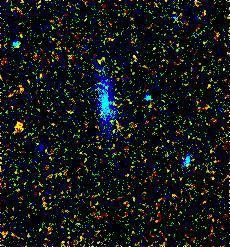star: (7, 107, 37, 137)
